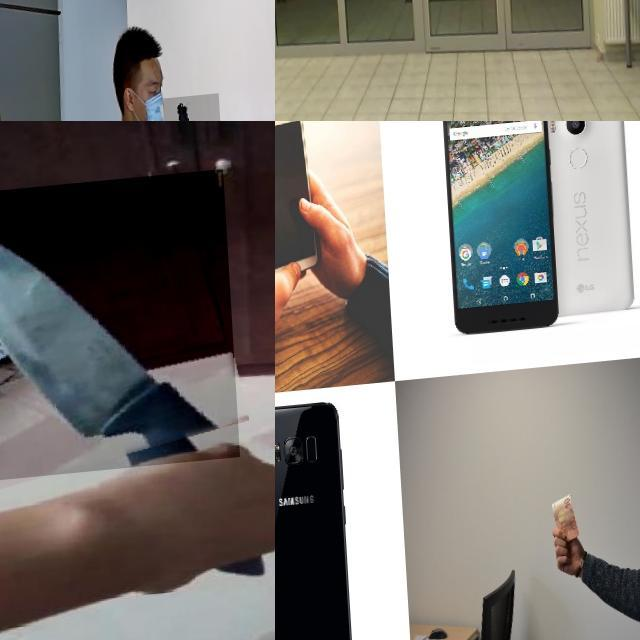-: (0, 175, 235, 485)
gun-knife-thesis - v11 Yolov5 augmented: (275, 0, 295, 24)
